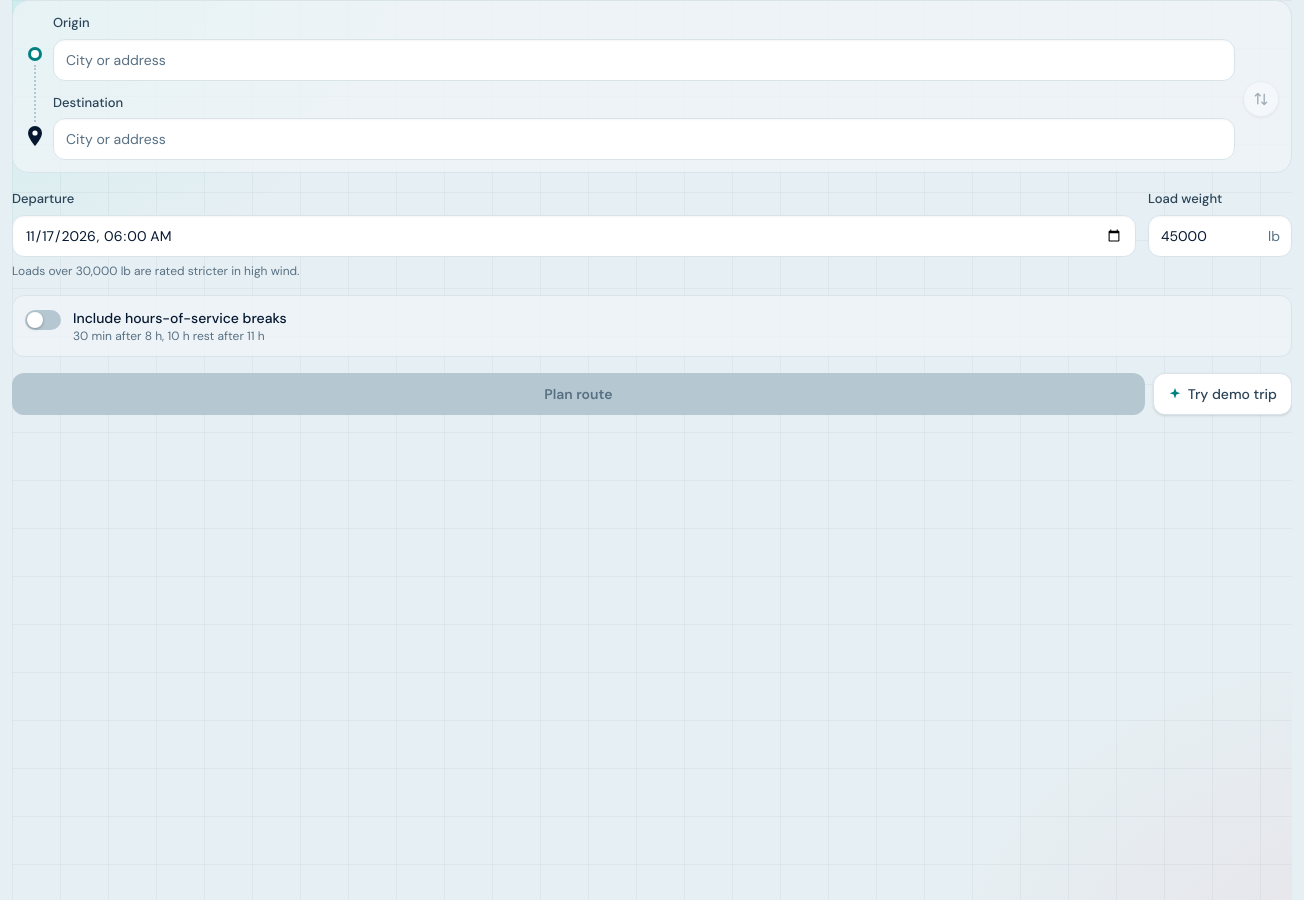
arrow keys move the highlight from the top suggestion
Type "Den" into the dropdown labelled "Origin" at point(644, 60), box [53,38,1235,80]
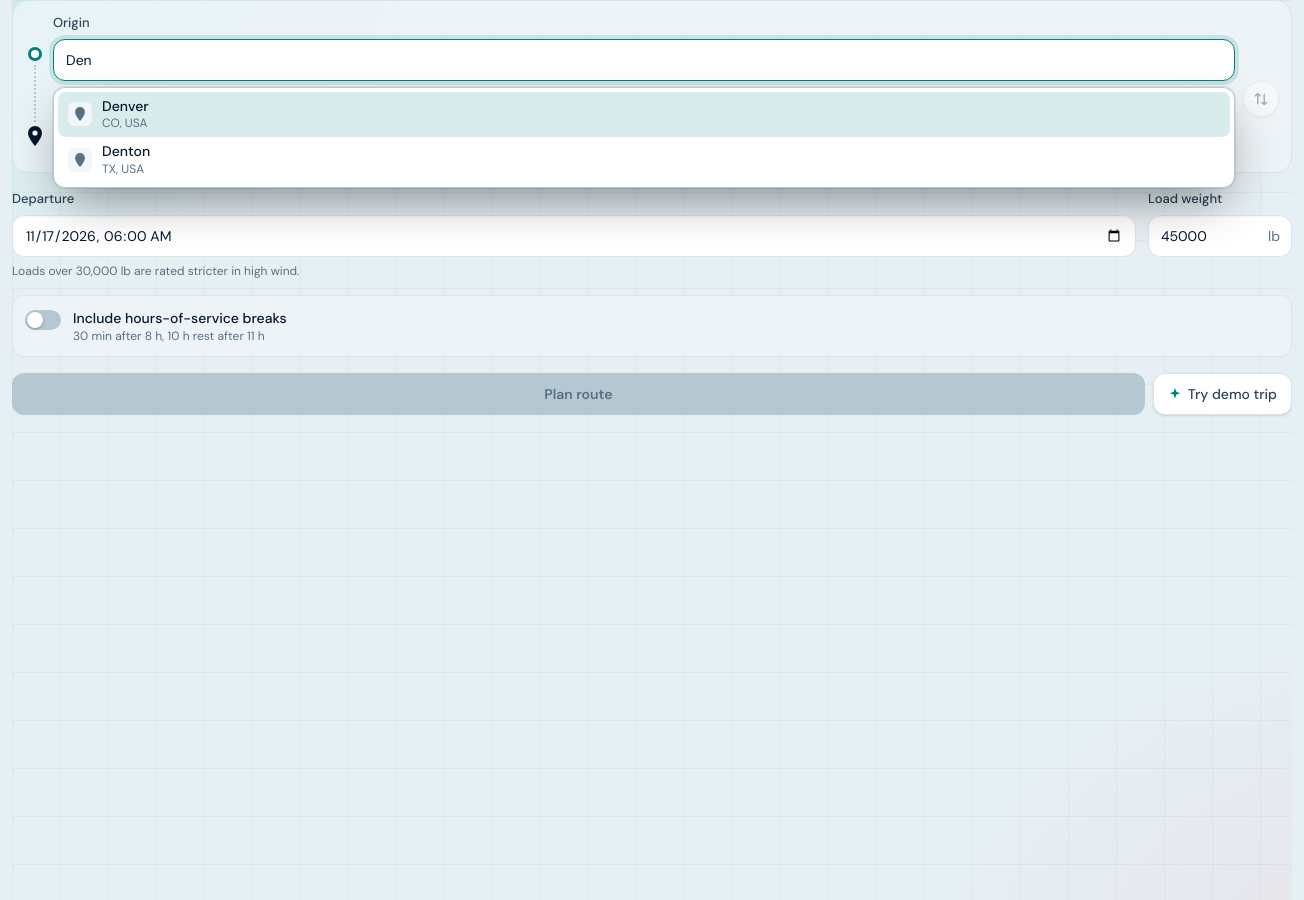
Now the option with aria-label "Denton, TX, USA" is shown, box [68,142,150,176]
Press Arrowdown Enter
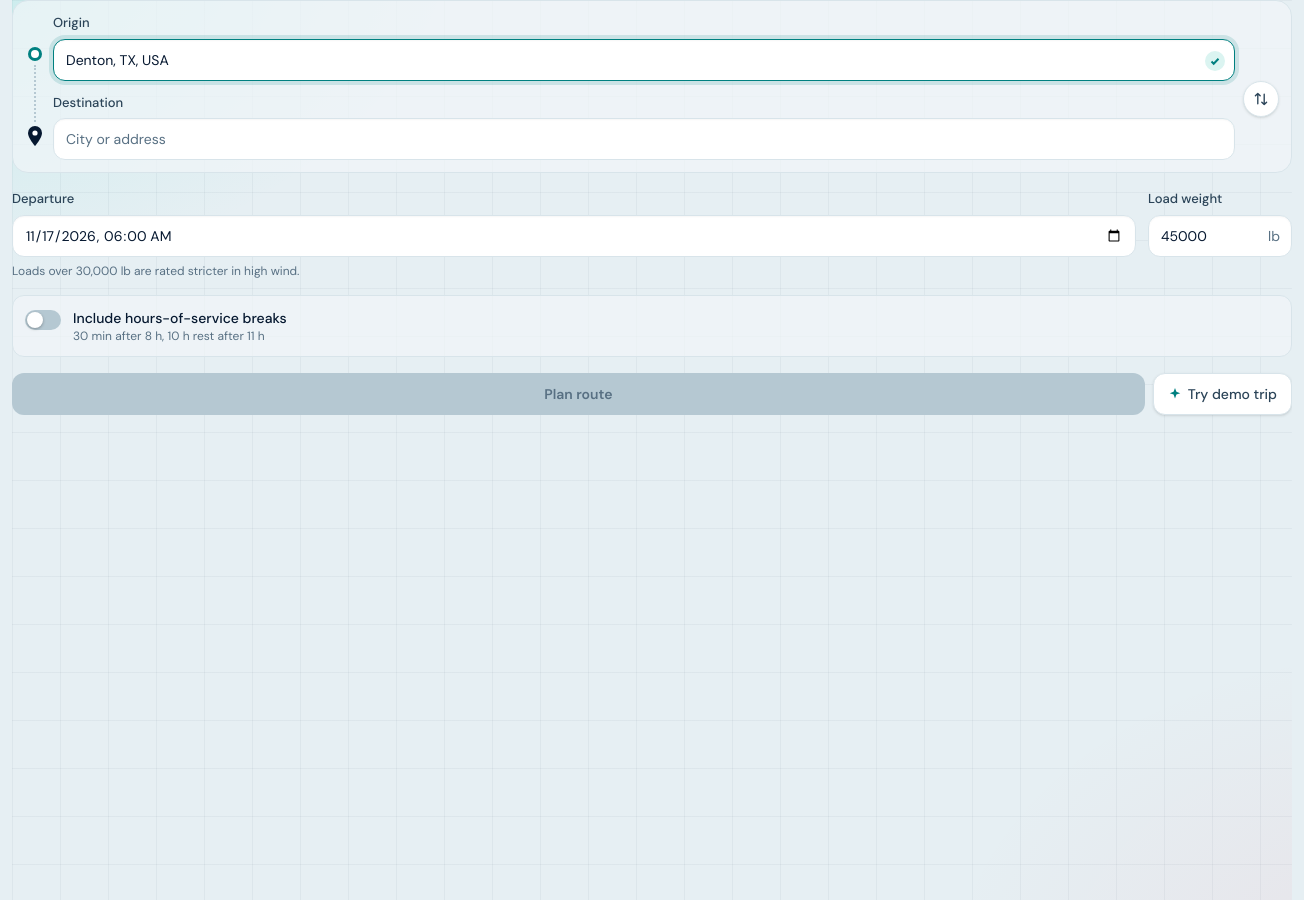
Now the dropdown labelled "Origin" holds "Denton, TX, USA", box [53,38,1235,80]
